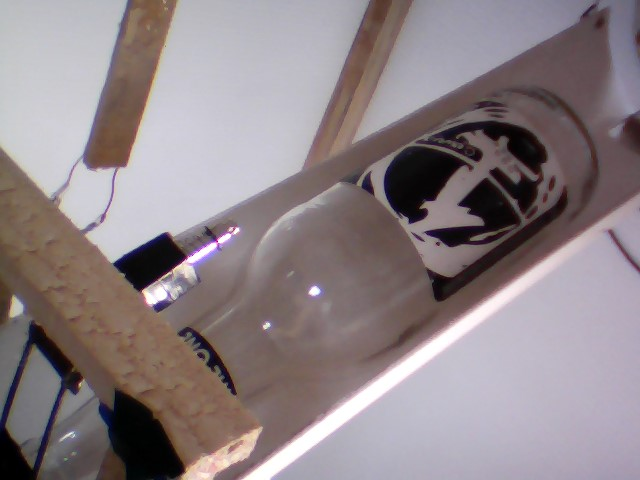vidrio: (164, 80, 604, 407)
